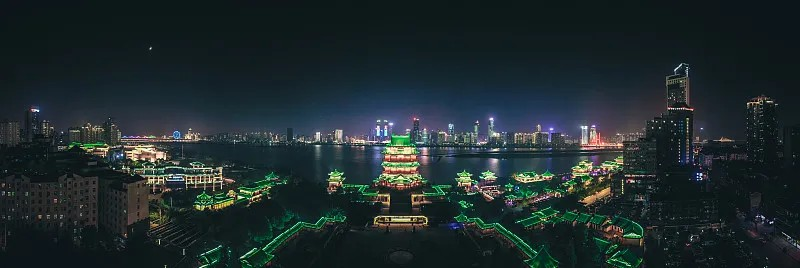Teng: (372, 133, 429, 190)
